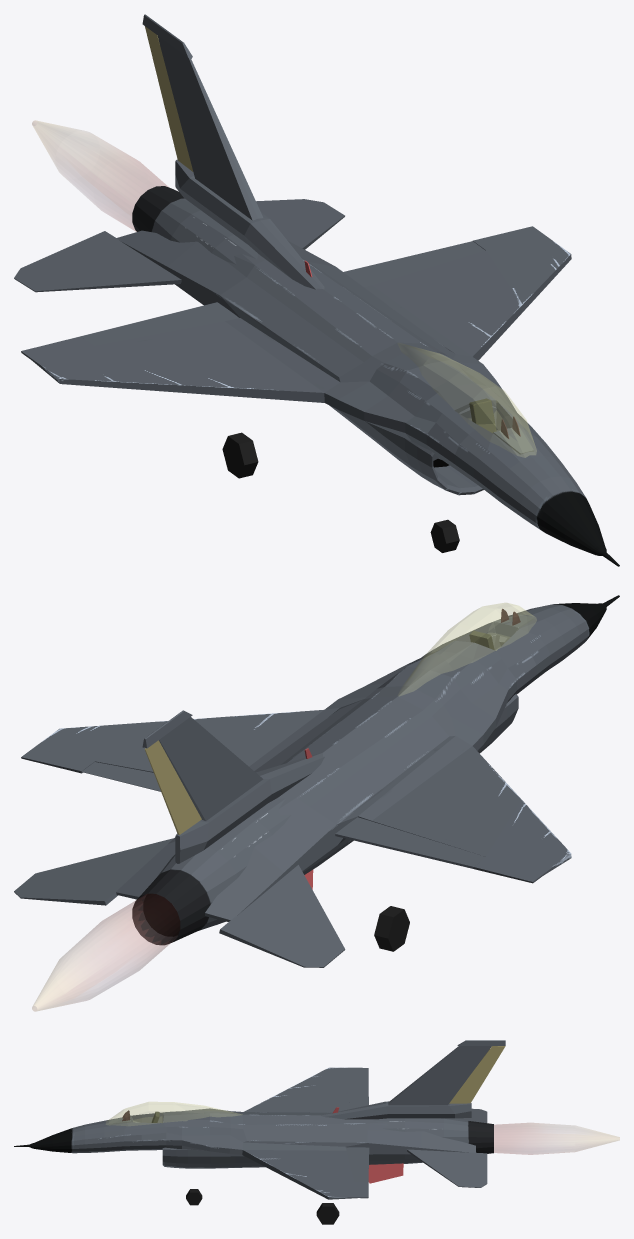
The picture shows the model from 3 angles, top to bottom: view 1: azimuth 30°, elevation 25°; view 2: azimuth 150°, elevation 25°; view 3: azimuth 270°, elevation 25°; orthographic projection. The views are drawn at different scales.
Visible parts, largest first — view 1: MainFrame, rudder_frame, Engine, Afterburner, right_elevator, left_elevator, right_aleron, left_aleron, rudder_0, cabin_glass_outside, wheel-rb, wheel-f; view 2: MainFrame, rudder_frame, Engine, Afterburner, right_elevator, left_elevator, right_aleron, rudder_0, cabin_glass_outside, wheel-rb, left_aleron, cabin_glass_inside (+1 smaller); view 3: MainFrame, rudder_frame, Engine, Afterburner, left_elevator, rudder_0, cabin_glass_outside, left_aleron, bottom_left_aleron, cabin_glass_inside, right_aleron, wheel-lb.
Part boxes in pixels (x1,y1,x2,y2): MainFrame: (21,226,619,566); rudder_frame: (142,14,324,289); Engine: (132,186,496,495); Afterburner: (32,120,167,231); right_elevator: (14,231,181,292); left_elevator: (256,199,344,249); right_aleron: (81,302,239,345); left_aleron: (343,241,484,287); rudder_0: (145,26,193,171); cabin_glass_outside: (398,344,535,447); wheel-rb: (222,432,258,478); wheel-f: (430,519,459,552); MainFrame: (21,595,619,921); rudder_frame: (142,710,324,863); Engine: (132,694,518,945); Afterburner: (32,894,179,1011); right_elevator: (219,865,345,967); left_elevator: (14,838,173,905); right_aleron: (335,817,485,868); rudder_0: (144,740,201,834); cabin_glass_outside: (402,603,534,694); wheel-rb: (374,906,409,951); left_aleron: (80,762,160,791); cabin_glass_inside: (408,603,529,679); MainFrame: (14,1067,475,1199); rudder_frame: (321,1040,505,1119); Engine: (162,1116,493,1168); Afterburner: (494,1123,619,1154); left_elevator: (407,1149,487,1187); rudder_0: (449,1046,505,1103); cabin_glass_outside: (106,1102,240,1122); left_aleron: (346,1147,369,1181); bottom_left_aleron: (368,1163,403,1183); cabin_glass_inside: (115,1102,231,1117); right_aleron: (347,1082,368,1109); wheel-lb: (316,1203,339,1224).
Size of the model in its own units: 1.35 by 0.793 by 2.67.
14 materials, 14 textured.
